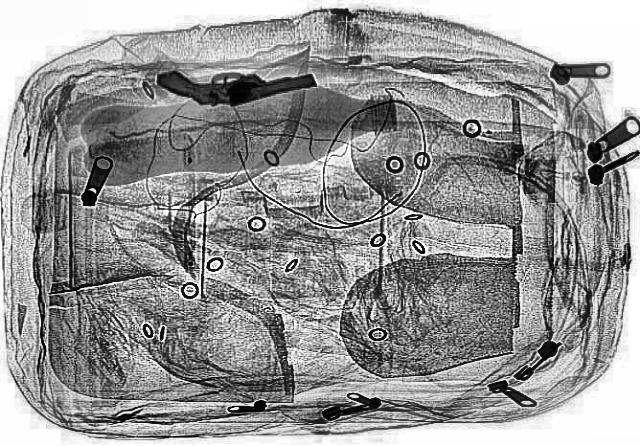Gun: (156, 64, 314, 108)
